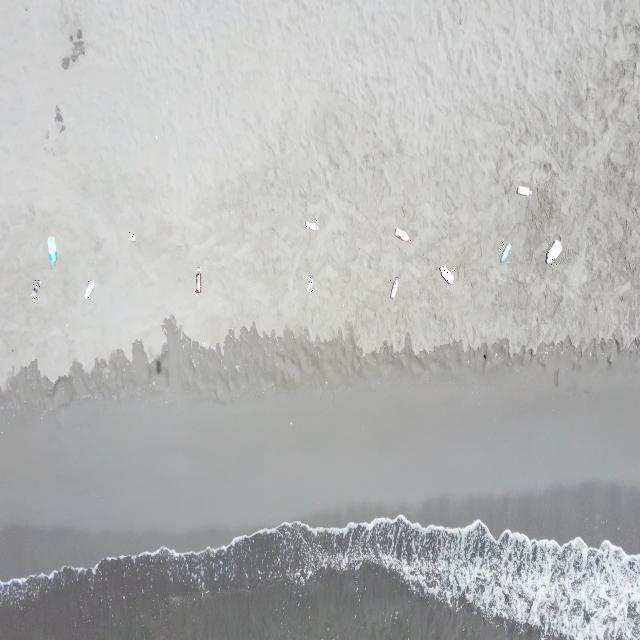plastic-bottle: (545, 238, 562, 266), (46, 234, 58, 267), (438, 265, 455, 286), (500, 241, 512, 264), (394, 228, 411, 244), (83, 280, 95, 300), (194, 266, 202, 296), (390, 276, 399, 300), (305, 220, 319, 234), (31, 280, 41, 299), (518, 184, 532, 197), (306, 275, 315, 294), (127, 232, 136, 244)
